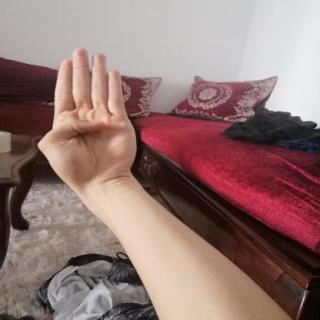KAAF: (23, 39, 147, 198)
